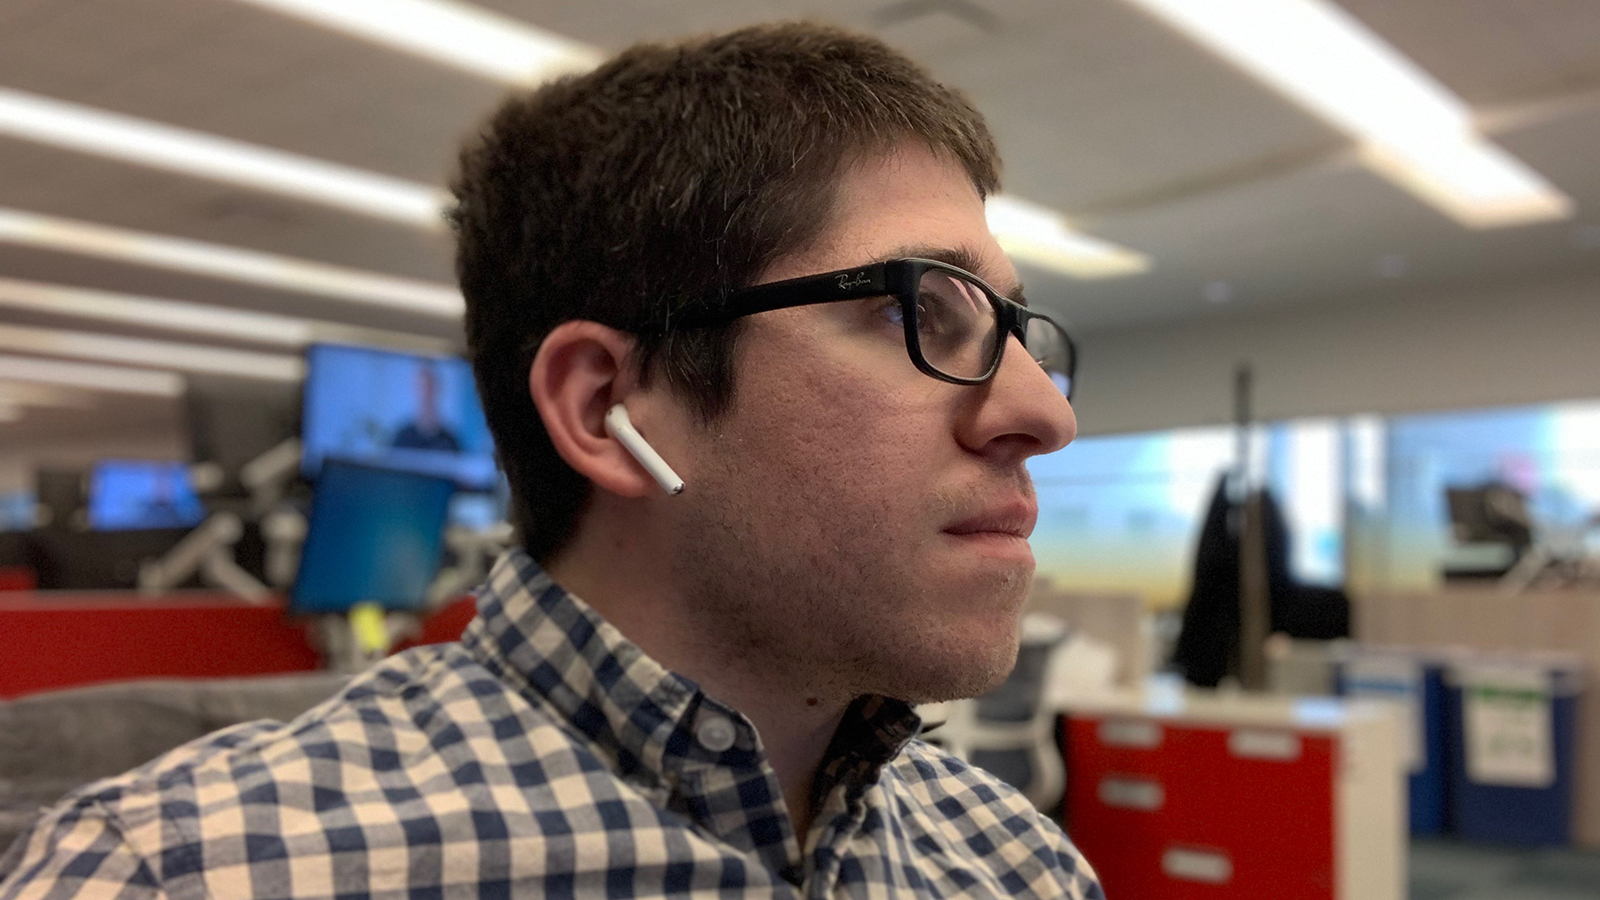earphone: (529, 320, 684, 501)
